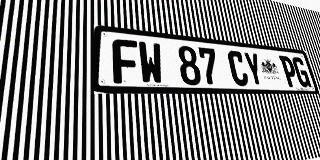7: (197, 47, 221, 86)
8: (177, 45, 202, 85)
C: (226, 50, 250, 86)
F: (112, 38, 140, 84)
G: (291, 57, 312, 87)
P: (279, 55, 300, 87)
W: (138, 41, 164, 84)
Y: (243, 52, 265, 86)
